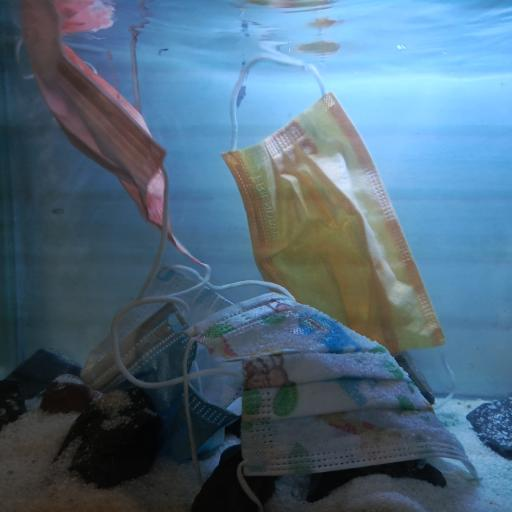mask: (222, 53, 446, 351), (17, 0, 210, 303), (183, 291, 480, 485), (79, 262, 297, 465)
